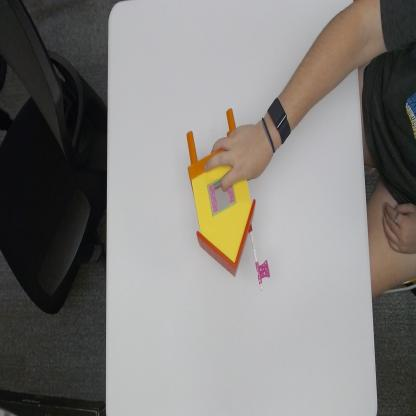Arm: (286, 4, 378, 105)
Hand: (211, 122, 276, 185)
House: (187, 111, 268, 289)
